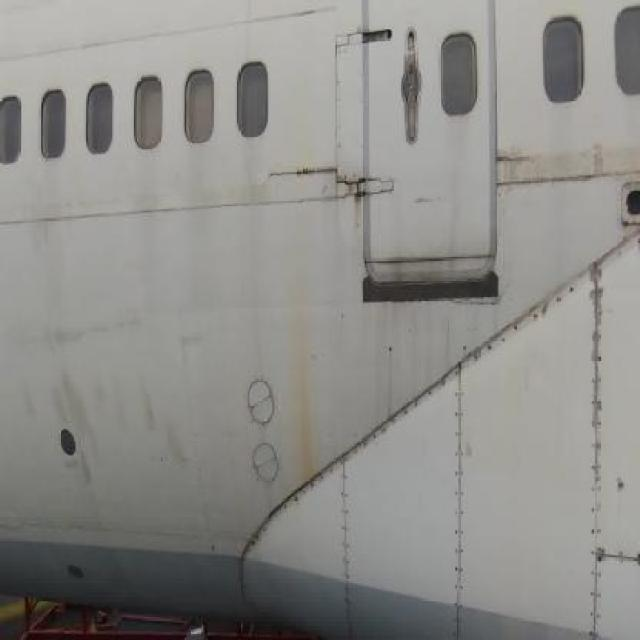Missing-Rivet: (476, 282, 582, 390), (580, 248, 609, 628), (351, 377, 449, 481), (258, 462, 334, 570), (447, 353, 475, 627), (334, 440, 358, 629), (615, 528, 640, 592)
Rust: (284, 216, 325, 487), (347, 168, 371, 242)
Scartch: (3, 308, 215, 486), (497, 136, 614, 218)
